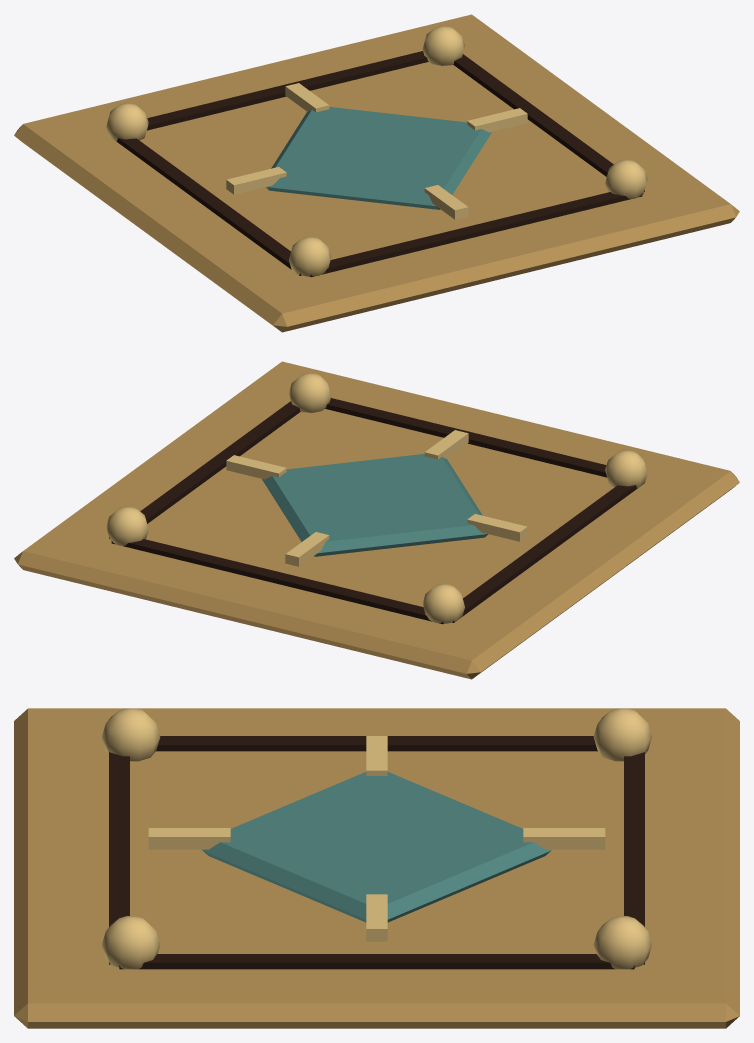
Rendered from wizard_table_corner_plate.glb.
The picture shows the model from 3 angles, top to bottom: view 1: azimuth 30°, elevation 25°; view 2: azimuth 150°, elevation 25°; view 3: azimuth 270°, elevation 25°; orthographic projection. The views are drawn at different scales.
Parts seen in each view (by area): view 1: wizard_table_corner_plate_Static; view 2: wizard_table_corner_plate_Static; view 3: wizard_table_corner_plate_Static.
Boxes of the visible parts, x1,y1,x2,y2 form: wizard_table_corner_plate_Static: (14,14,739,332); wizard_table_corner_plate_Static: (14,361,739,679); wizard_table_corner_plate_Static: (14,708,739,1028).
Bounding box in the file's own units: 0.62 × 0.063 × 0.62.
